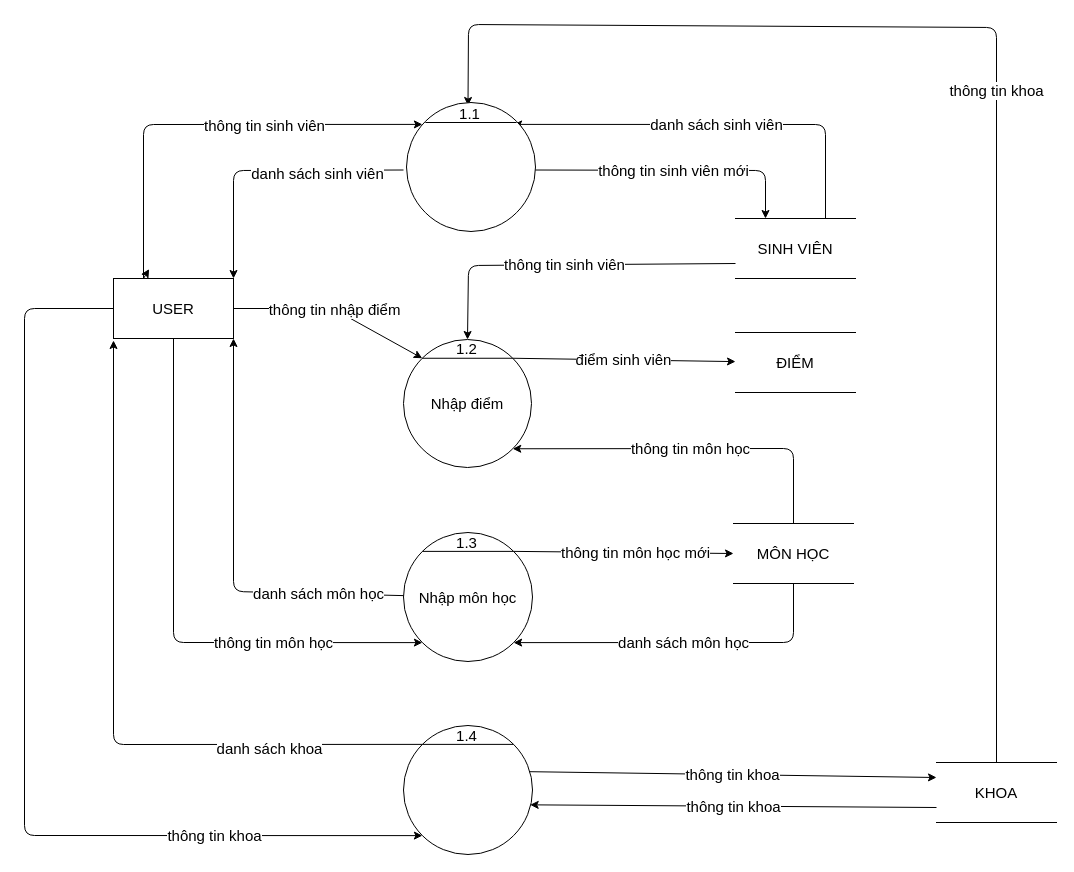
The diagram is 1074 pixels wide and 872 high, and some of its shapes have lost their labels. The shapes that lost their labels are listed below. From the top down, each one's box as (x1, y1, x2, y2) in pixels, then its label:
(406, 102, 536, 232): nhập sinh viên
(402, 724, 532, 854): Nhập khoa
